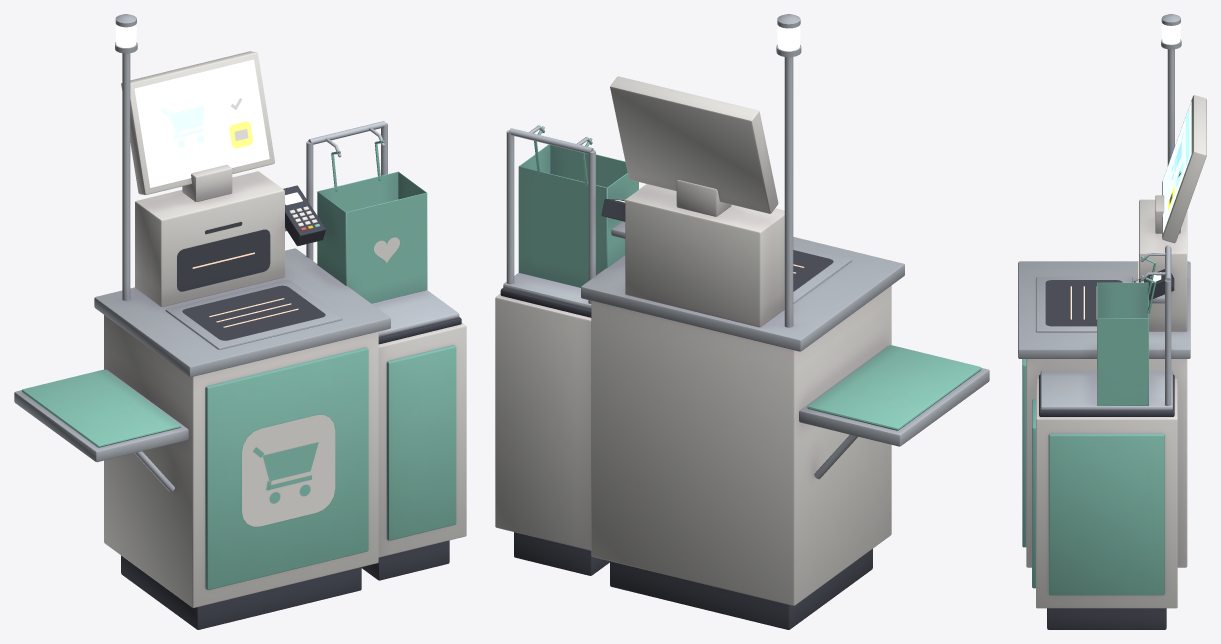
File: self-checkout.fbx
3 renders of one model, left to right at view 1: azimuth 30°, elevation 25°; view 2: azimuth 150°, elevation 25°; view 3: azimuth 270°, elevation 25°, orthographic. The views are drawn at different scales.
Parts seen in each view (by area): view 1: self-checkout_body, self-checkout_touch_screen, self-checkout_light_glow; view 2: self-checkout_body; view 3: self-checkout_body, self-checkout_touch_screen, self-checkout_light_glow.
Part boxes in pixels (x1,y1,x2,y2): self-checkout_body: (14, 14, 466, 629); self-checkout_touch_screen: (134, 59, 302, 205); self-checkout_light_glow: (115, 25, 298, 327); self-checkout_body: (495, 14, 989, 629); self-checkout_body: (1018, 14, 1206, 629); self-checkout_touch_screen: (1150, 101, 1191, 282); self-checkout_light_glow: (1070, 24, 1180, 319).
Bounding box in the file's own units: 1.21 × 1.72 × 0.5851.
Materials: 10 (1 with a texture image).
